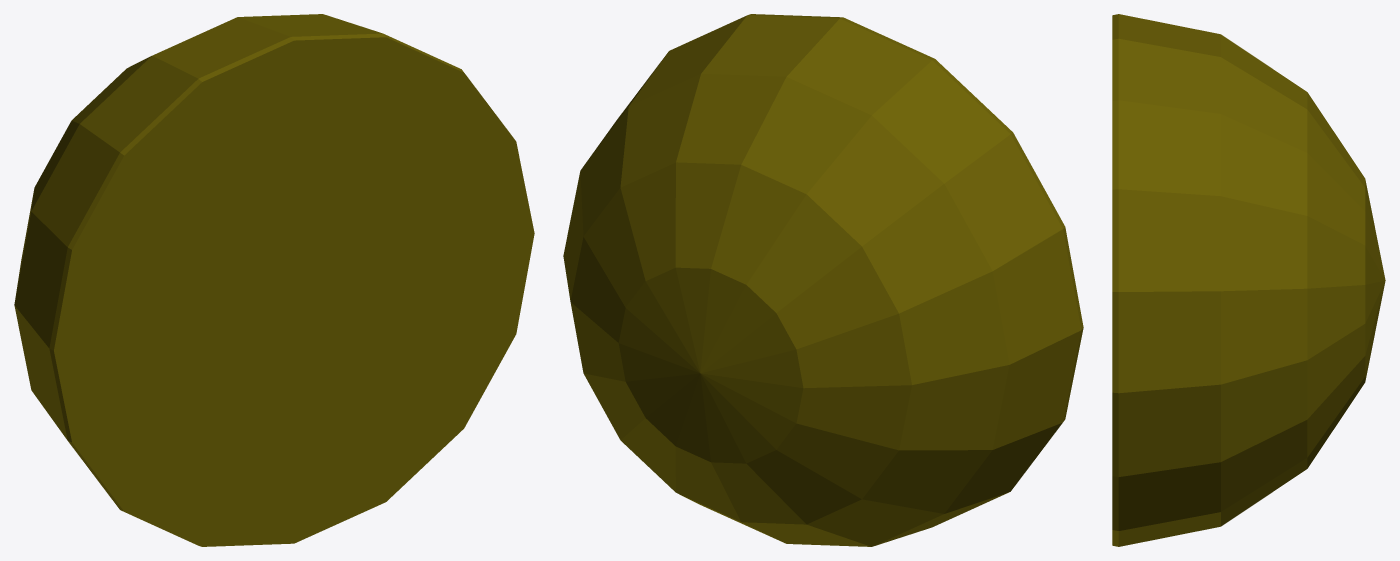
The model's file is round_btm.obj.
3 renders of one model, left to right at view 1: azimuth 30°, elevation 25°; view 2: azimuth 150°, elevation 25°; view 3: azimuth 270°, elevation 25°, orthographic. The views are drawn at different scales.
Visible parts, largest first — view 1: Sphere_Sphere.004; view 2: Sphere_Sphere.004; view 3: Sphere_Sphere.004.
Boxes of the visible parts, x1=… form: Sphere_Sphere.004: x1=14, y1=14, x2=534, y2=546; Sphere_Sphere.004: x1=563, y1=14, x2=1083, y2=546; Sphere_Sphere.004: x1=1112, y1=14, x2=1385, y2=546.
Bounding box in the file's own units: 5.32 × 5.32 × 2.73.
